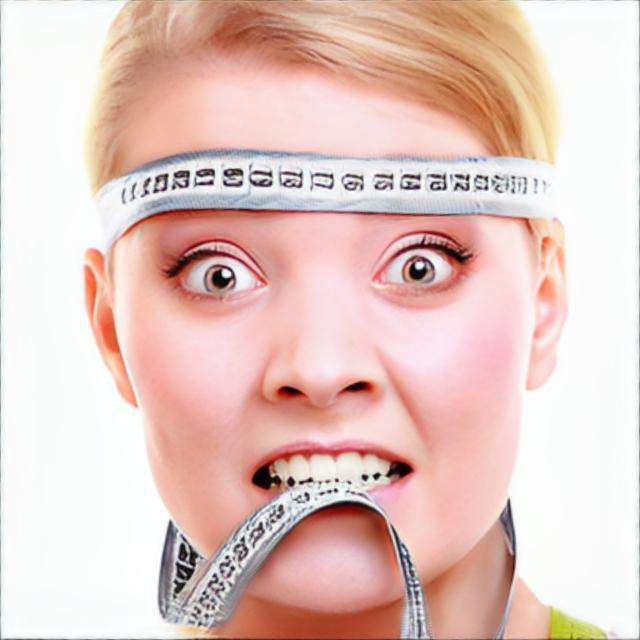surprise: (115, 46, 538, 614)
